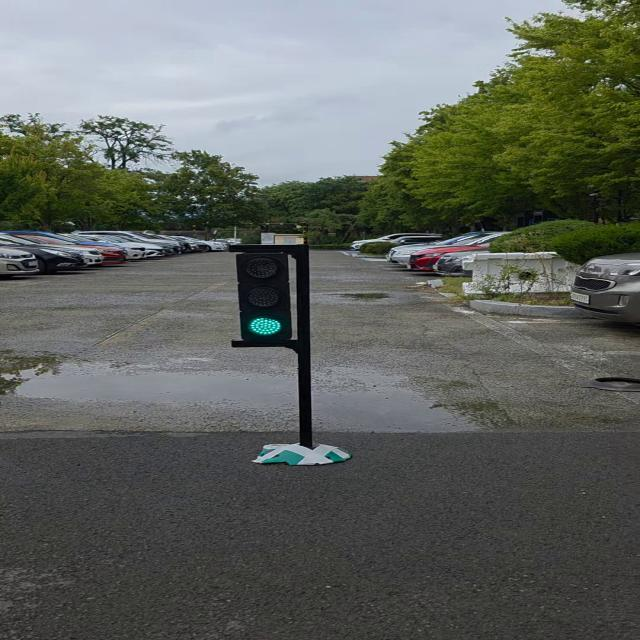green: (242, 248, 310, 345)
